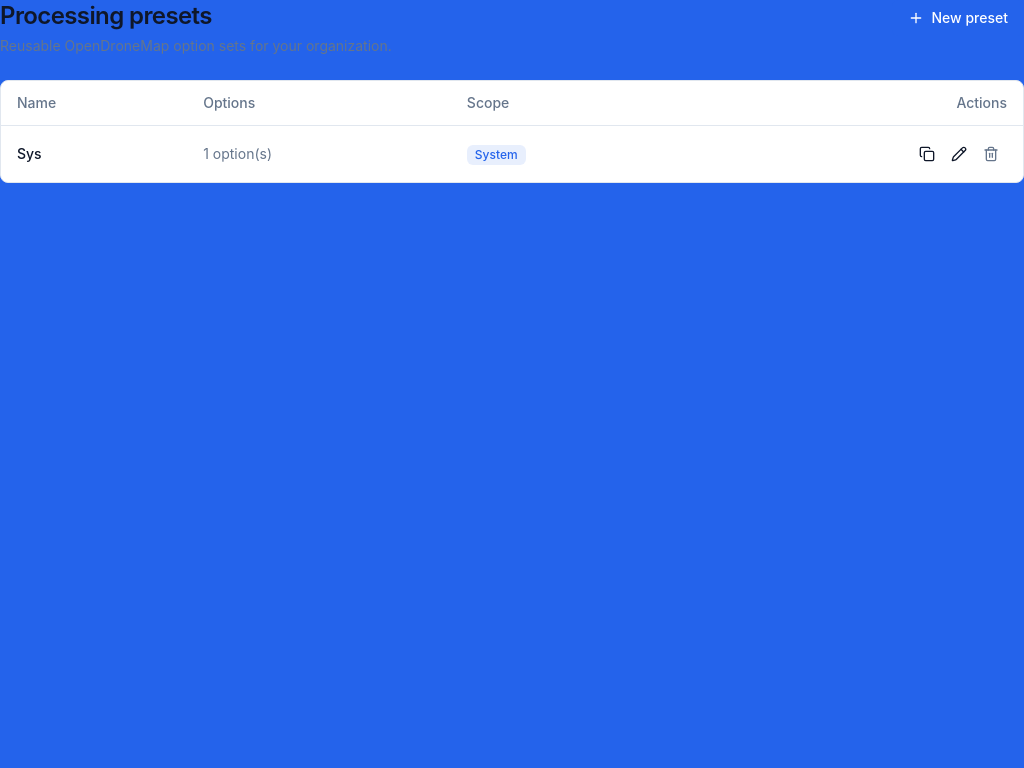
Presets page › checks the System toggle when an admin edits a system preset
The image size is (1024, 768).
Click the button titled "Edit preset".
click(959, 154)  # box [943,138,975,170]
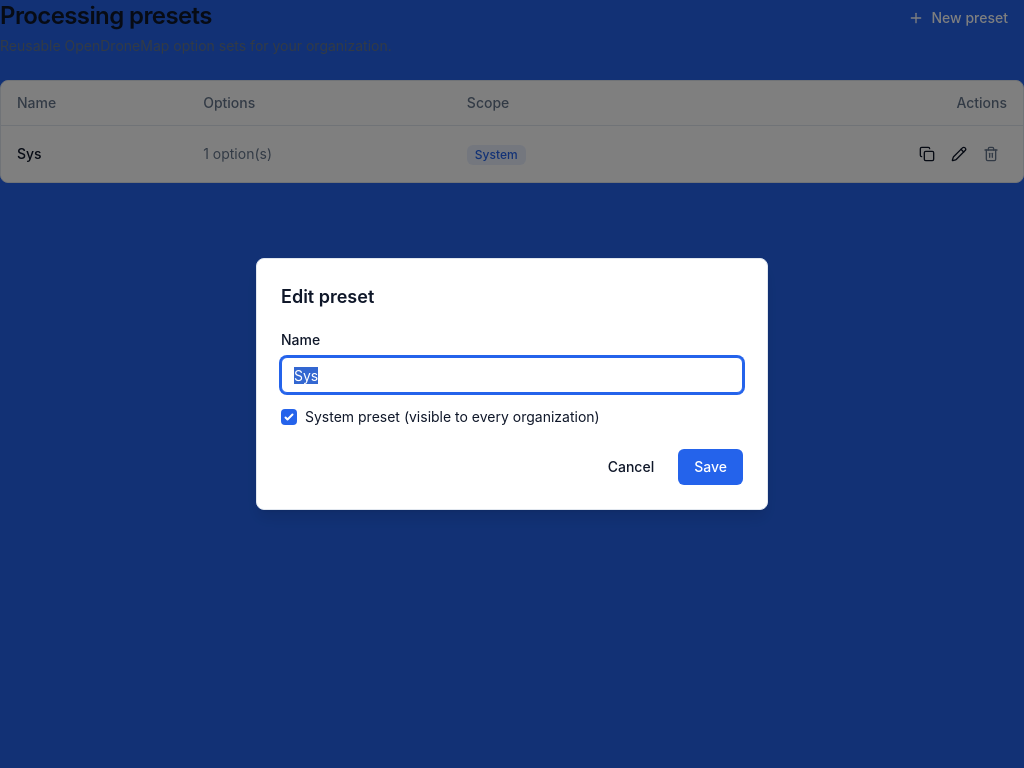
Check: the checkbox labelled "System preset (visible to every organization)" is checked, box [281,409,297,425]
